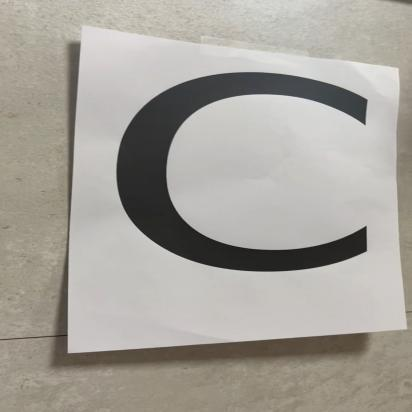seat: (85, 29, 412, 329)
